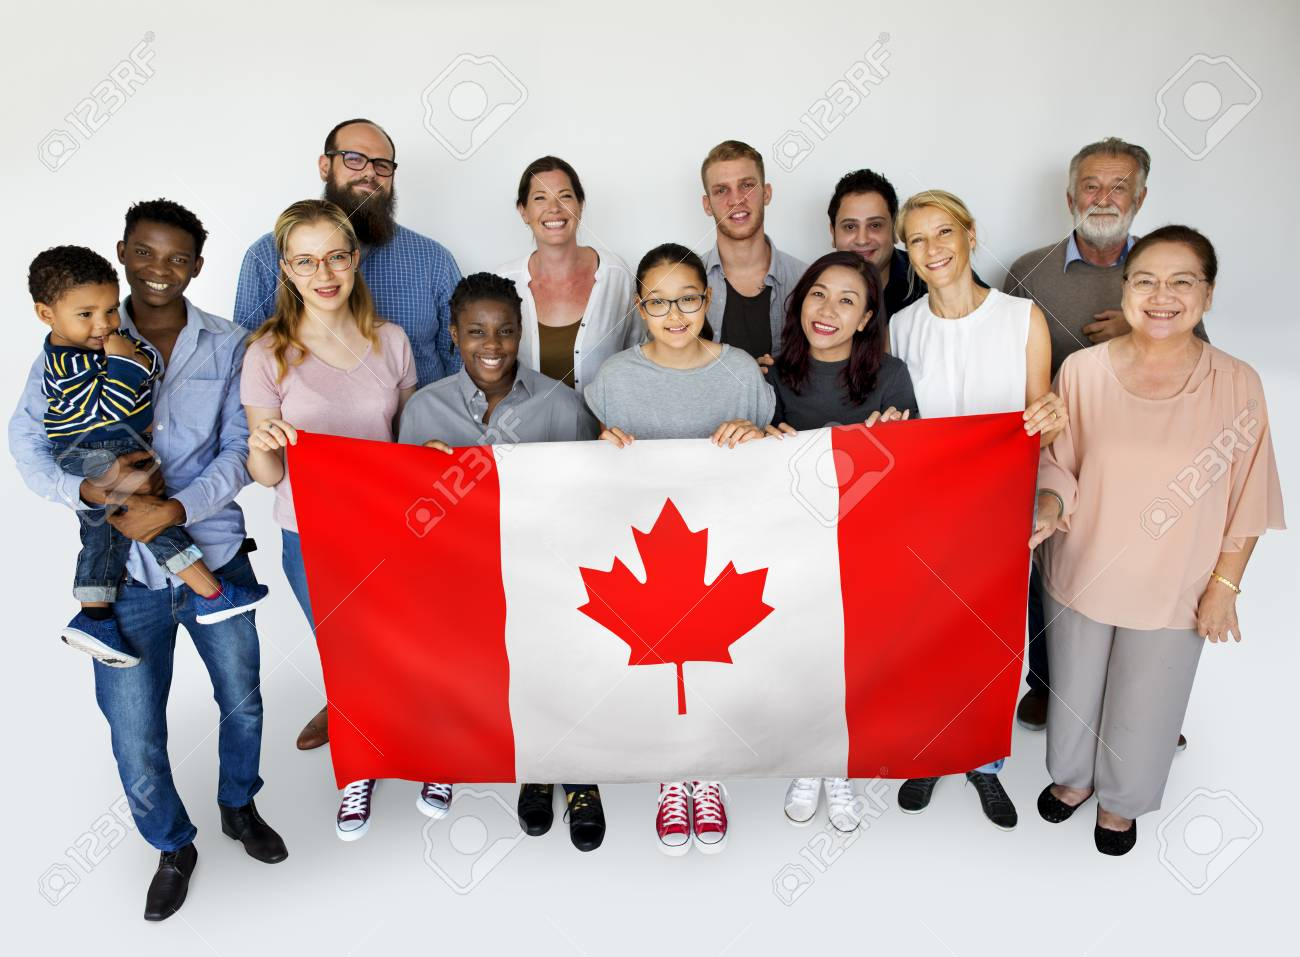person: (1067, 218, 1262, 509), (768, 260, 944, 429), (105, 200, 235, 397), (892, 196, 1034, 373), (601, 251, 752, 414), (265, 223, 402, 399), (423, 267, 558, 427)
